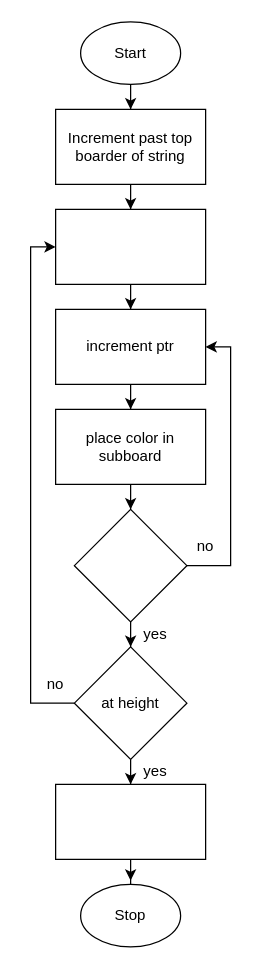
This 263x969 diagram has some shape labels left out. Here are the shapes that lost their labels. From the top down, the box of each, then its label:
(54, 208, 206, 284): increment past right boarder
(73, 508, 187, 622): at width
(54, 783, 206, 859): find_center
